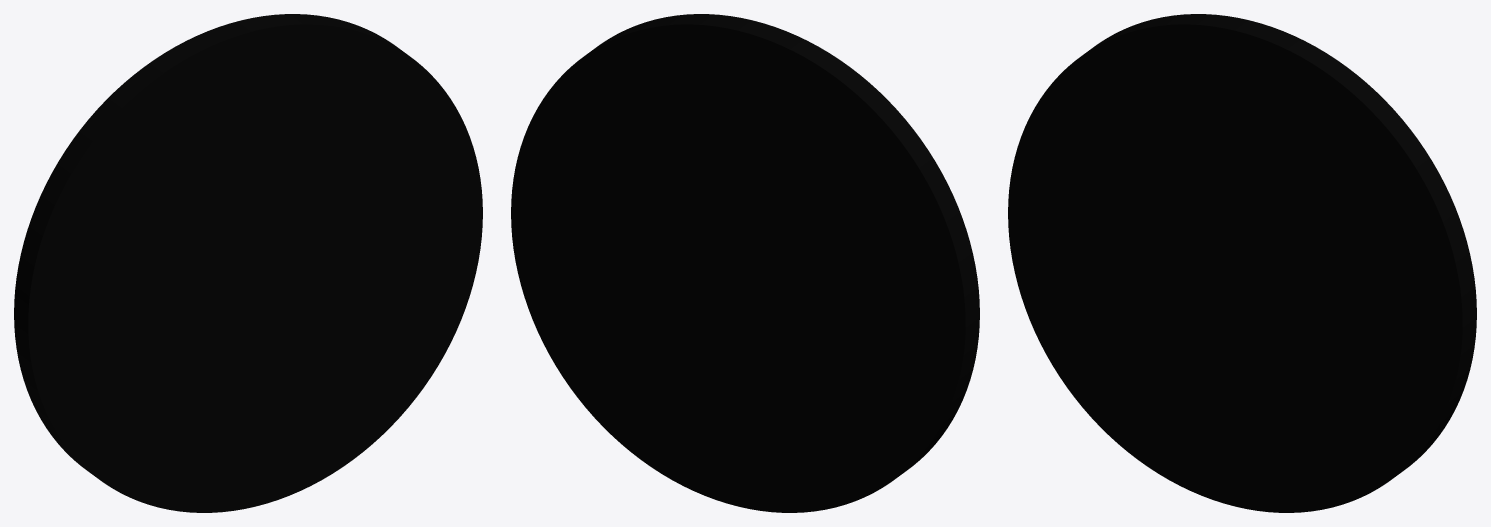
File: near.fbx
3 views of the same model, side by side, from view 1: azimuth 30°, elevation 25°; view 2: azimuth 150°, elevation 25°; view 3: azimuth 330°, elevation 25° (orthographic).
Parts seen in each view (by area): view 1: Logo; view 2: Logo; view 3: Logo.
Part boxes in pixels (x1,y1,x2,y2): Logo: (14, 14, 482, 512); Logo: (511, 14, 979, 512); Logo: (1008, 14, 1476, 512).
Bounding box in the file's own units: 8220 × 8220 × 445.
Materials: 3 (3 with a texture image).
